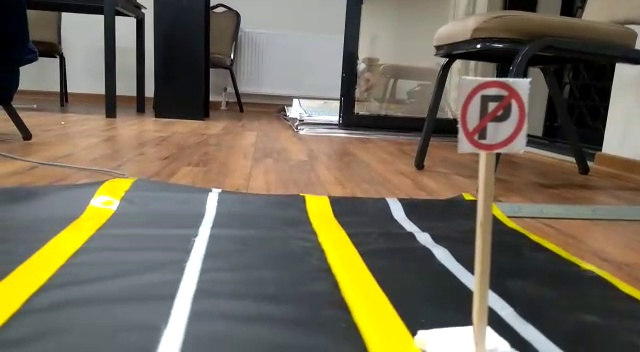park_yapilmaz: (455, 78, 530, 151)
